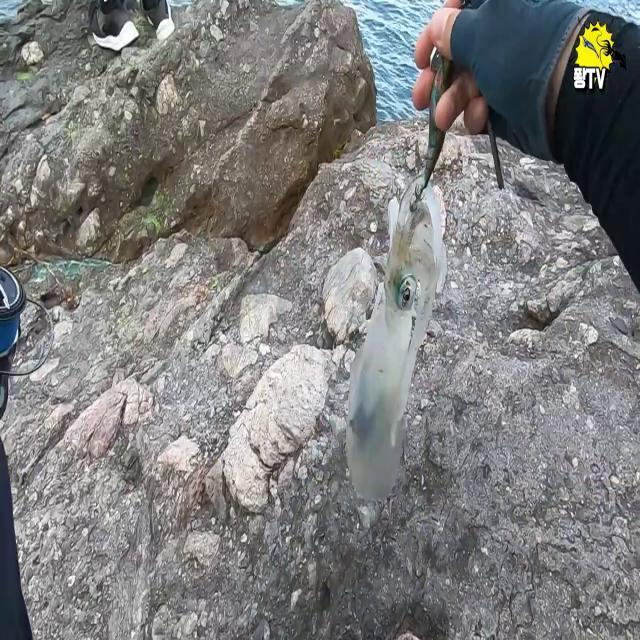SQUID: (337, 95, 463, 530)
